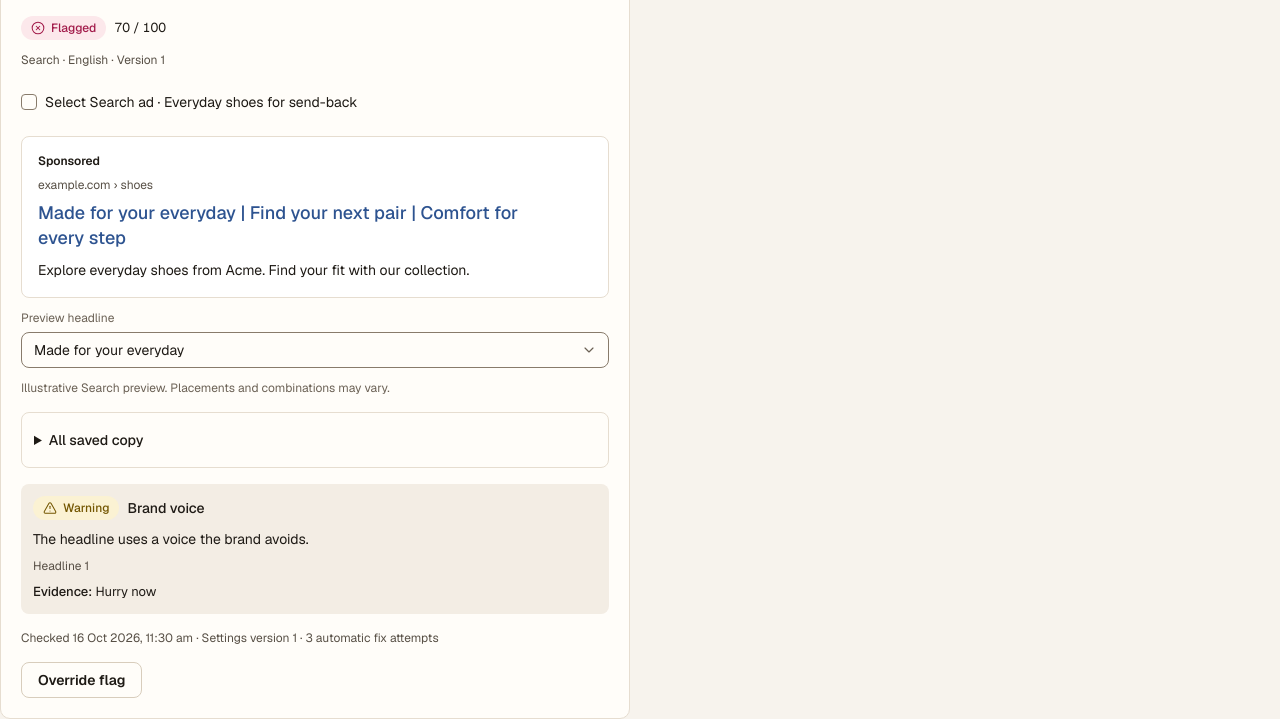
Test: pending decisions prevent duplicates and cancellation, successful decisions announce and await refresh
The width and height of the screenshot is (1280, 719).
(page scrolled)
Step 1. Click the button "Override flag" → (82, 680), box [21,662,142,698]
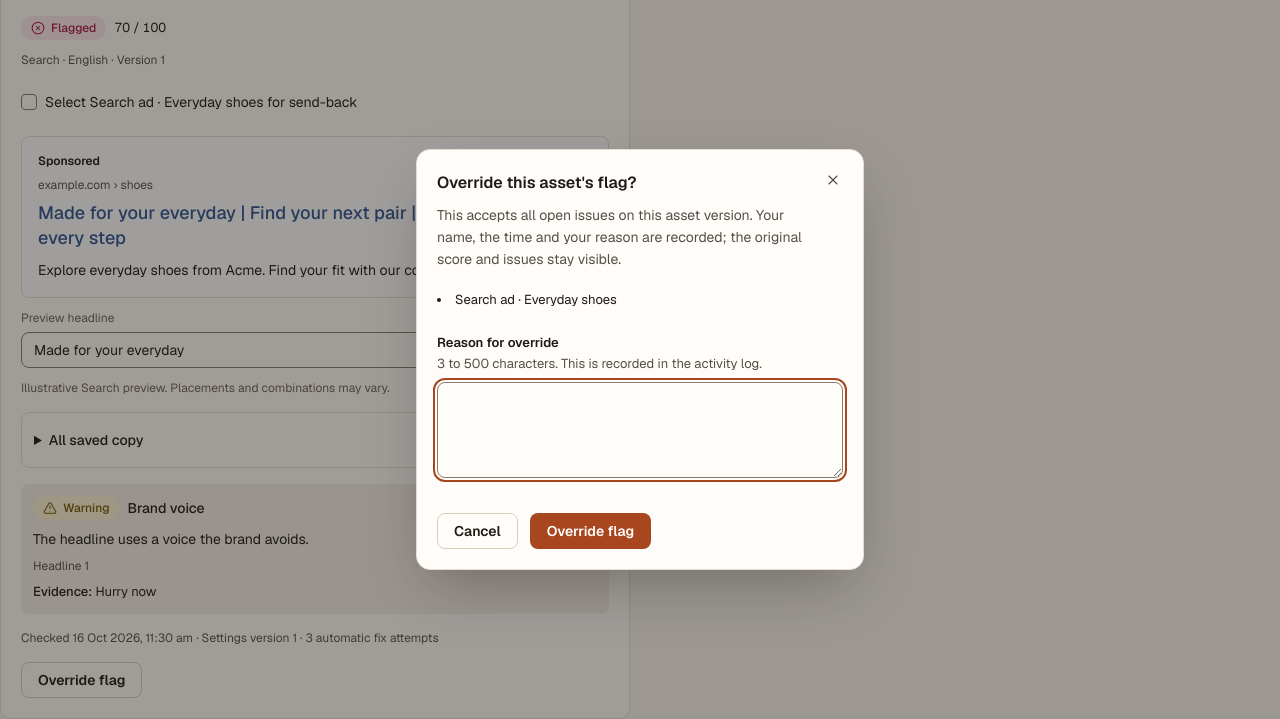
Step 2. Type "Reviewed exception" into the text box labelled "Reason for override" → (640, 430), box [437,382,843,478]
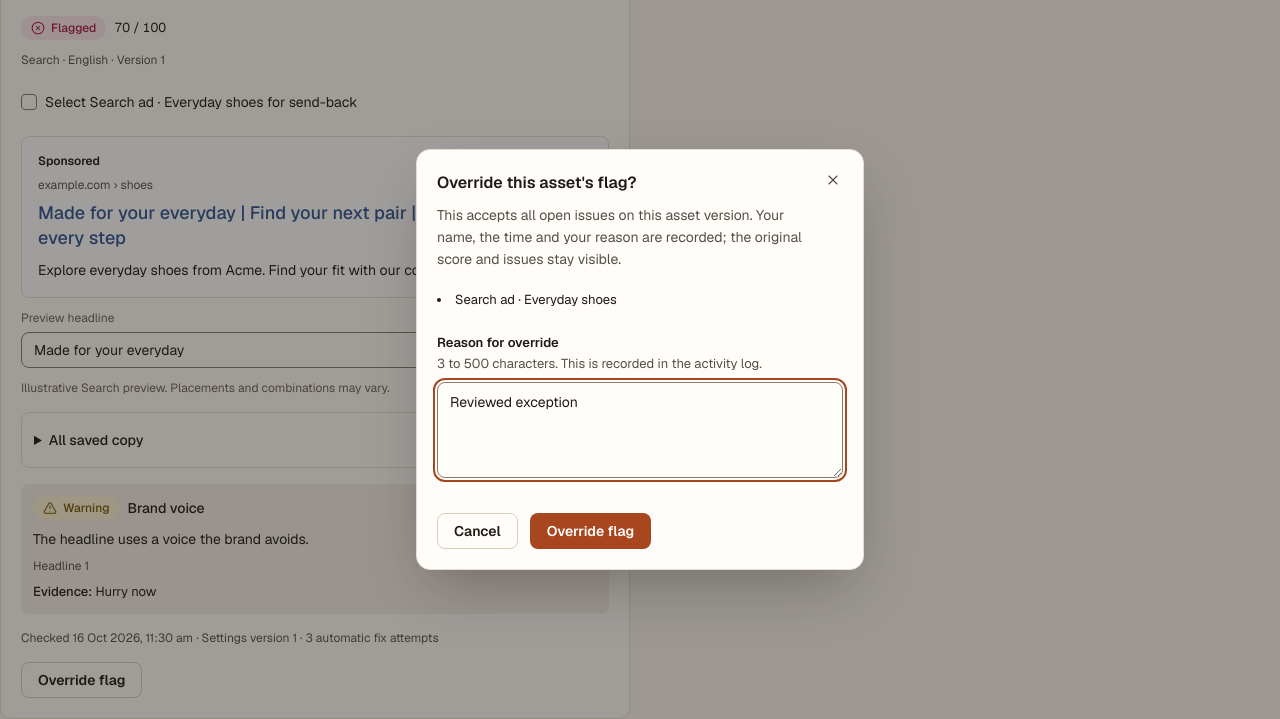
Step 3. Click the button "Override flag" → (590, 530), box [530,512,651,548]
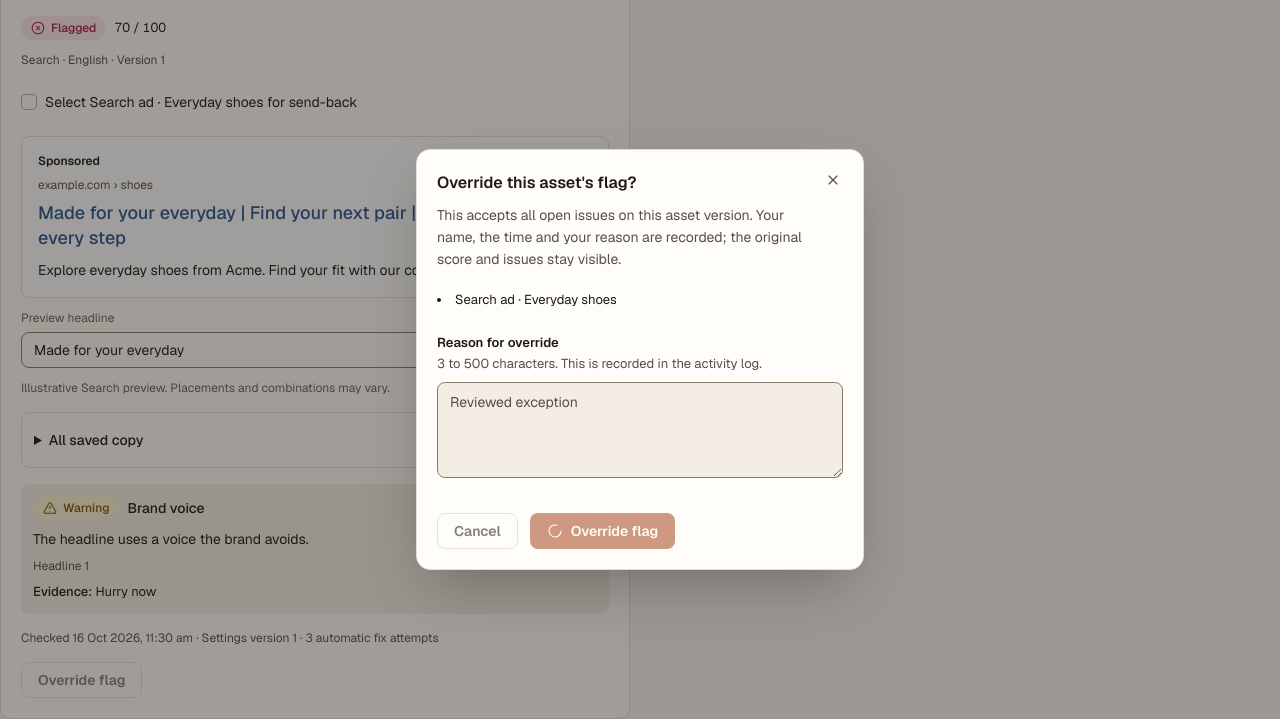
expect the button "Cancel" is disabled: met, box [437,512,518,548]
Step 4. Click the button "Override flag" → (602, 530), box [530,512,675,548]
(page scrolled)
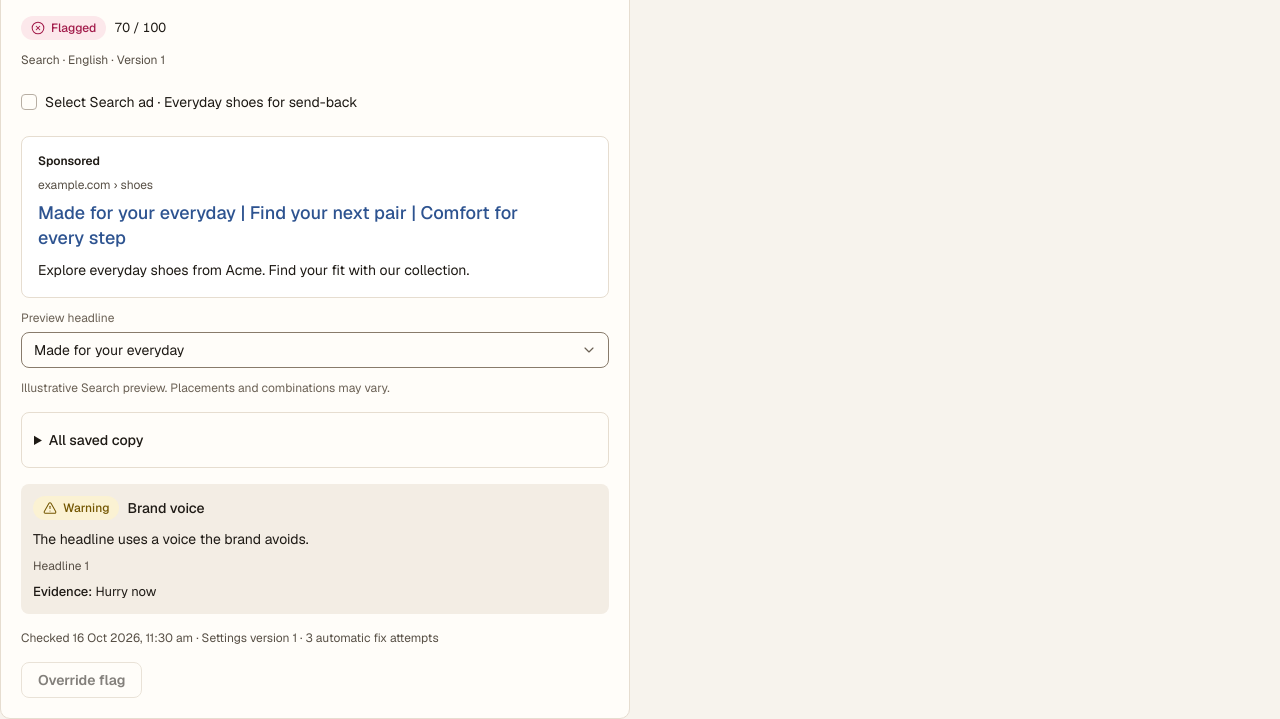
expect the button "Override flag" is disabled: met, box [21,662,142,698]
expect the dialog is gone: met
